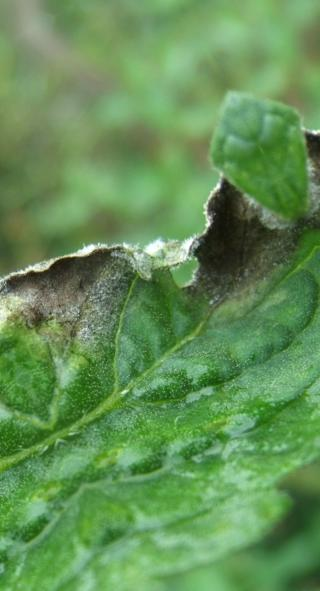Tomato leaf late blight: (0, 89, 320, 591)
